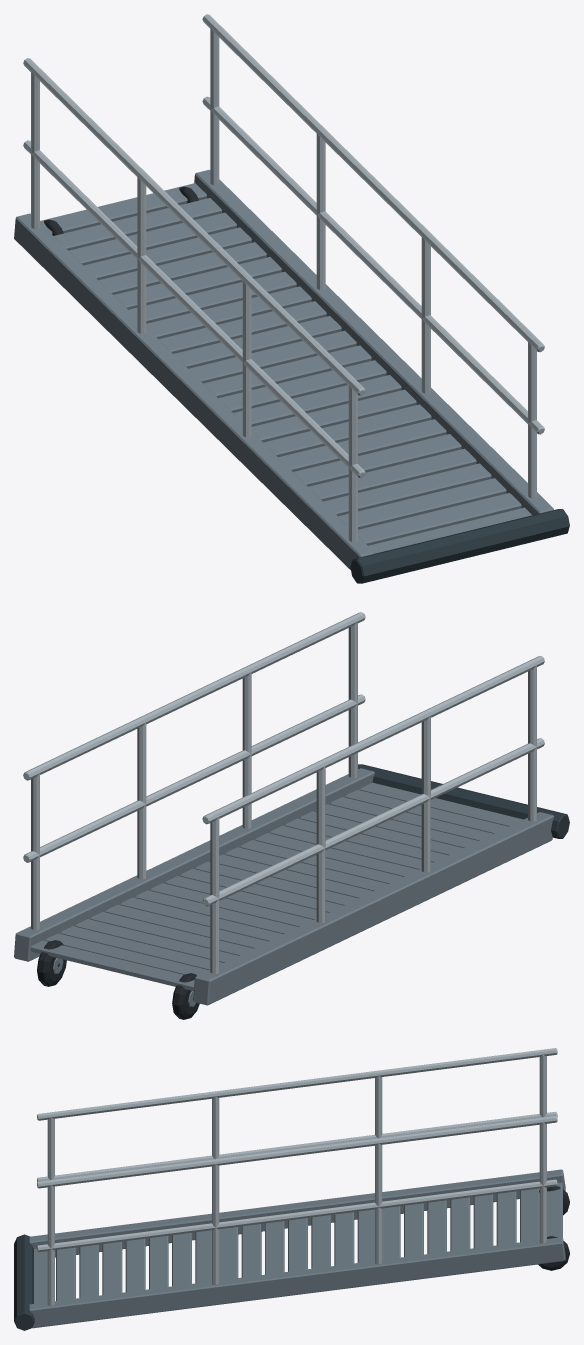
The model's file is b20_hinged_marina_gangway.glb.
3 renders of one model, top to bottom at view 1: azimuth 30°, elevation 25°; view 2: azimuth 150°, elevation 25°; view 3: azimuth 270°, elevation 25°, orthographic. The views are drawn at different scales.
Visible parts, largest first — view 1: b20_hinged_marina_gangway; view 2: b20_hinged_marina_gangway; view 3: b20_hinged_marina_gangway.
Boxes of the visible parts, x1,y1,x2,y2 form: b20_hinged_marina_gangway: (14, 14, 569, 583); b20_hinged_marina_gangway: (14, 612, 569, 1019); b20_hinged_marina_gangway: (14, 1048, 569, 1330).
Bounding box in the file's own units: 1.32 × 1.65 × 3.95.
